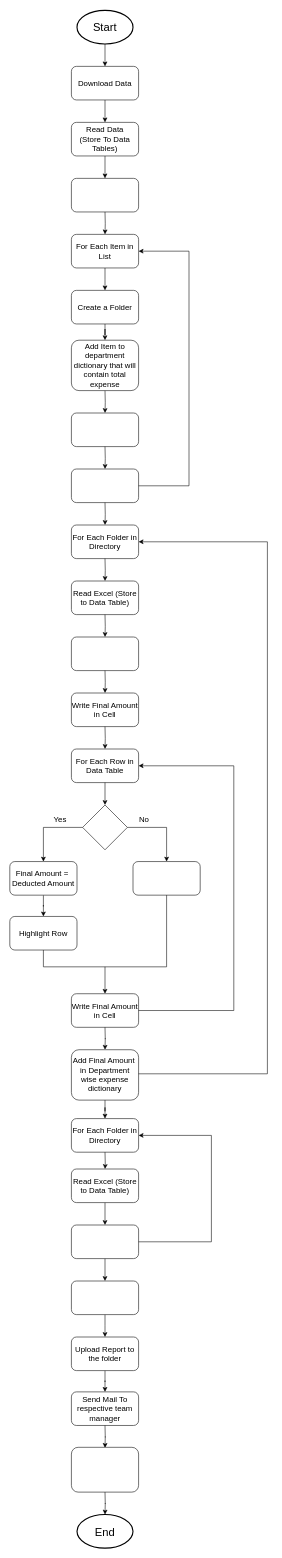
This 282x1558 diagram has some shape labels left out. The centre of each missing label's shape, as x and y in pixels:
Create List Containing Department Code: (x=105, y=195)
Filter Employee Data Table Based On Department: (x=105, y=429)
Final Amount = Gross Salary: (x=166, y=878)
Generate Analytical Report: (x=105, y=1297)
Generate Cheque & Save in Folder: (x=105, y=1241)
Get Ascii Value For Adding Final Amount Cell: (x=105, y=653)
IF Casual leave > 1: (x=104, y=827)
Save To Excel in Respective Department Folder: (x=105, y=485)
Update Department wise expense excel from dictionary: (x=105, y=1469)
